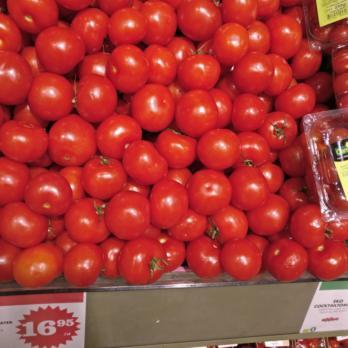Tomato: (4, 0, 304, 283)
